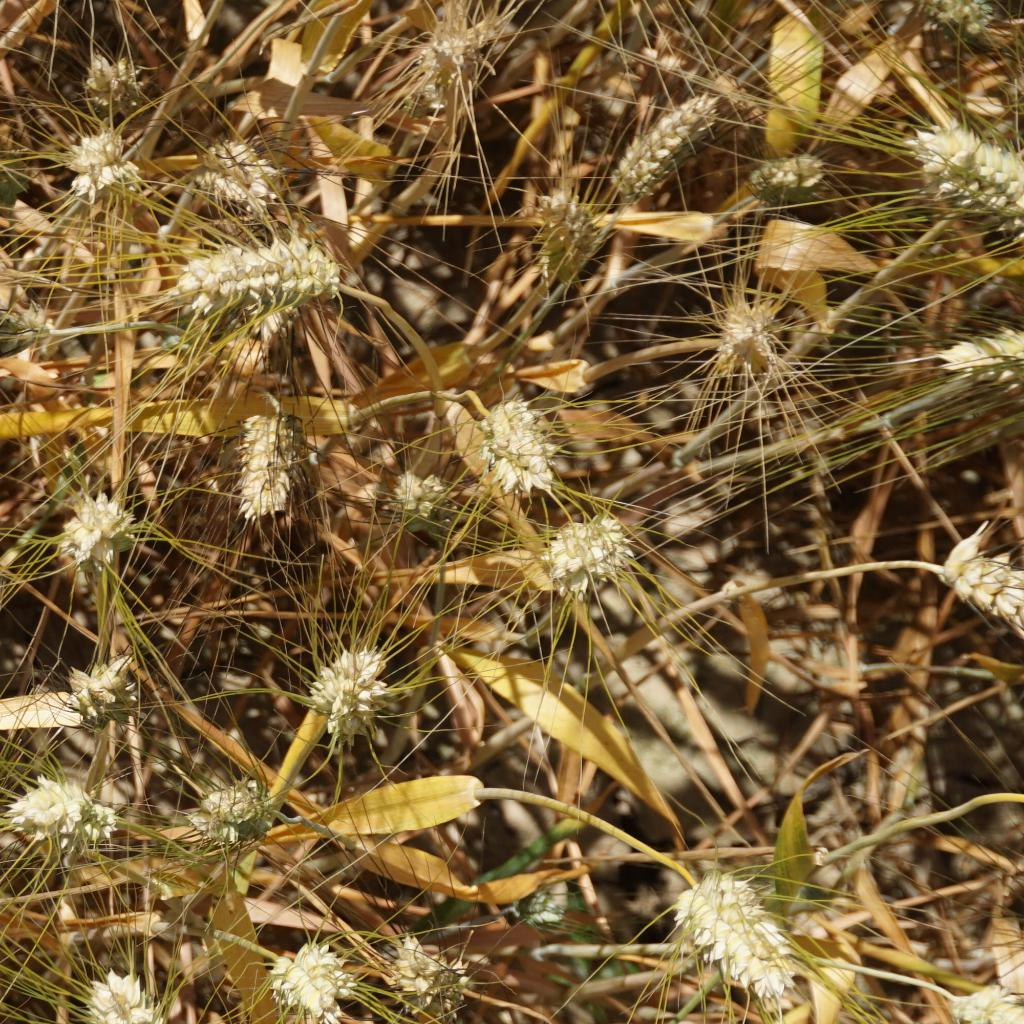0-0: (675, 862, 803, 998), (586, 74, 705, 193), (514, 169, 606, 313), (911, 110, 1024, 220), (185, 740, 277, 856), (927, 521, 1024, 630), (177, 248, 348, 309), (220, 395, 303, 519), (0, 772, 120, 854), (377, 923, 470, 1024), (468, 391, 557, 482), (305, 640, 391, 734), (413, 21, 486, 128), (933, 303, 1017, 395), (35, 490, 135, 565), (541, 498, 616, 594), (74, 961, 188, 1024), (53, 125, 145, 197), (186, 125, 269, 202), (65, 653, 151, 724), (269, 931, 344, 1010), (714, 293, 781, 370), (377, 456, 441, 529), (746, 139, 823, 195), (949, 974, 1024, 1024), (78, 51, 132, 100), (931, 0, 1000, 37)
